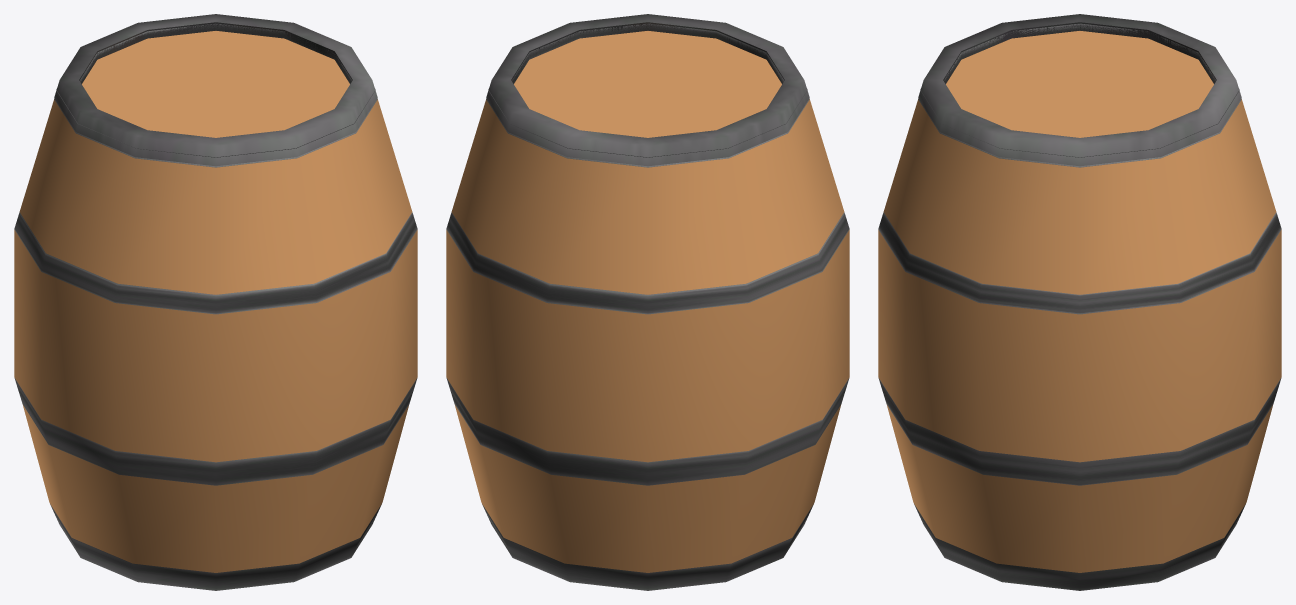
File: StorageBarrelHand.fbx
The picture shows the model from 3 angles, left to right: view 1: azimuth 30°, elevation 25°; view 2: azimuth 150°, elevation 25°; view 3: azimuth 270°, elevation 25°; orthographic projection.
Visible parts, largest first — view 1: crate, crate (1); view 2: crate, crate (1); view 3: crate, crate (1).
Boxes of the visible parts, left/top/right/bottom form: crate: left=14, top=23, right=417, bottom=590; crate (1): left=54, top=14, right=377, bottom=166; crate: left=446, top=23, right=849, bottom=590; crate (1): left=486, top=14, right=809, bottom=166; crate: left=878, top=23, right=1281, bottom=590; crate (1): left=918, top=14, right=1241, bottom=166.
Size of the model in its own units: 1.1 by 1.34 by 1.1.
